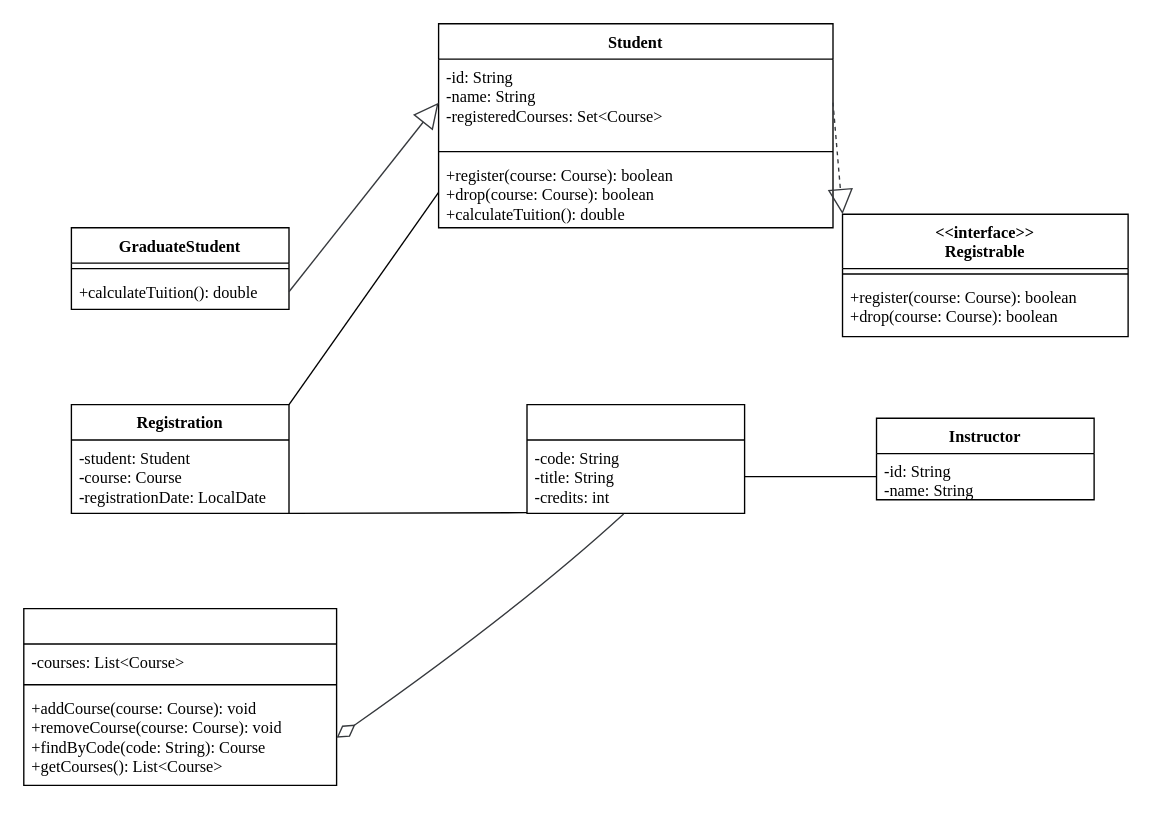
Some shapes in this 1152 by 813 pixel diagram are drawn without their labels. Here are the shapes that lost their labels. From the top down, the box of each, then its label:
(526, 403, 745, 513): Course
(22, 607, 337, 785): CourseCatalog
